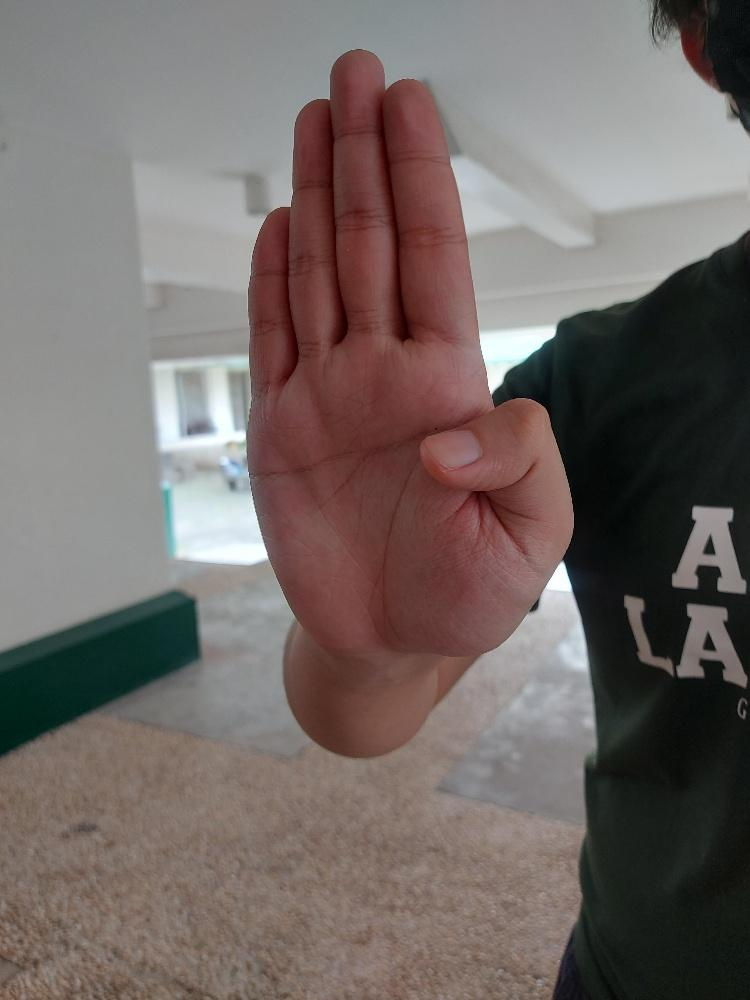b: (243, 44, 576, 658)
